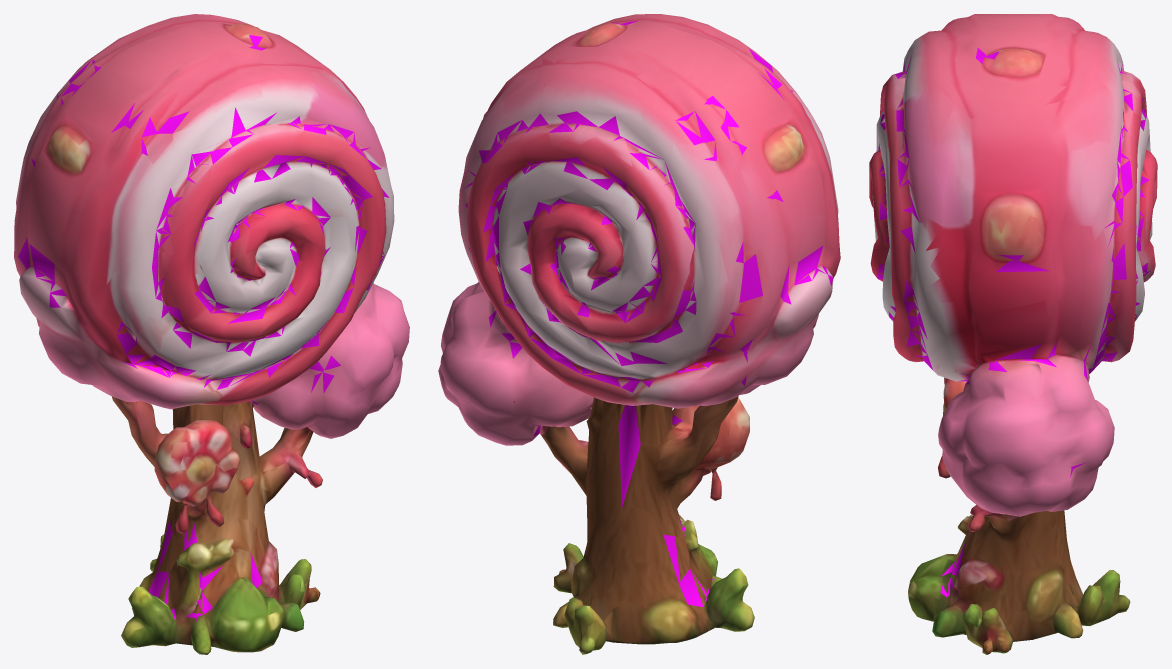
The model's file is CF_LollipopTree.fbx.
3 renders of one model, left to right at view 1: azimuth 30°, elevation 25°; view 2: azimuth 150°, elevation 25°; view 3: azimuth 270°, elevation 25°, orthographic.
Parts seen in each view (by area): view 1: CF_LollipopTree, COL_Mesh; view 2: CF_LollipopTree, COL_Mesh; view 3: CF_LollipopTree, COL_Mesh.
Part boxes in pixels (x1,y1,x2,y2): CF_LollipopTree: [14, 14, 409, 654]; COL_Mesh: [18, 35, 389, 621]; CF_LollipopTree: [438, 14, 840, 654]; COL_Mesh: [464, 20, 833, 606]; CF_LollipopTree: [869, 14, 1157, 654]; COL_Mesh: [877, 28, 1150, 597].
Size of the model in its own units: 5.98 by 9 by 4.08.
